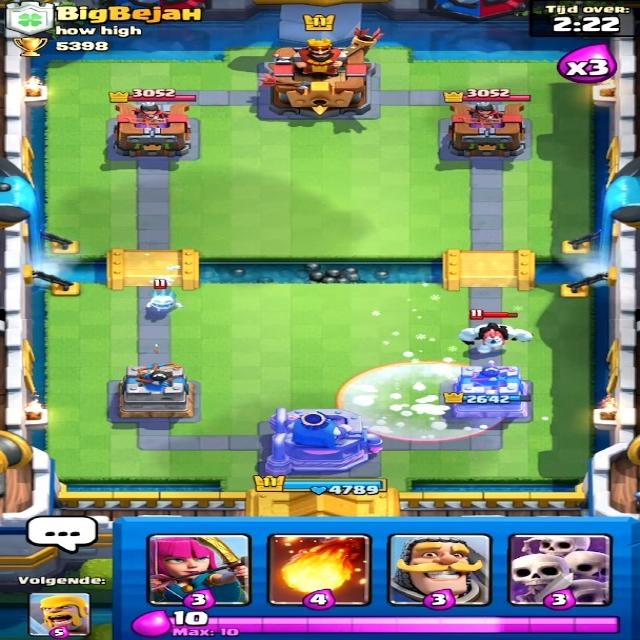Enemy_Ice_Golem_Troop: (452, 319, 542, 356)
Enemy_Ice_Spirit_Troop: (138, 290, 188, 313)
Fireball_Card: (274, 537, 367, 607)
